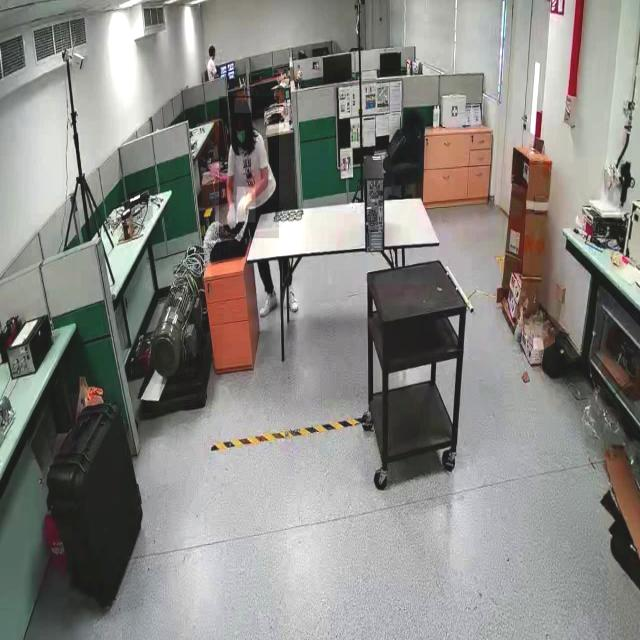face_mask: (234, 111, 252, 156)
hand_glove: (237, 187, 256, 223), (226, 195, 238, 247)
head_nohelmet: (234, 98, 252, 114), (209, 44, 215, 50)
person: (219, 96, 279, 239)
shoes: (258, 291, 280, 320), (284, 284, 300, 312)
